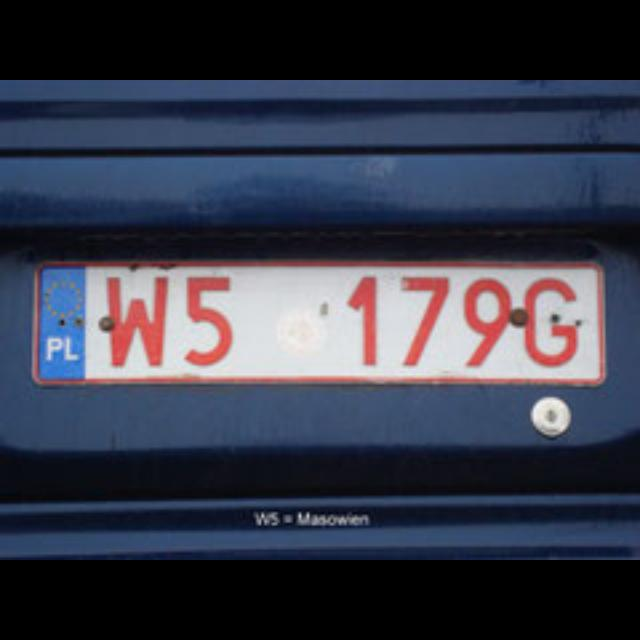pl_license_plate: (34, 262, 600, 378)
